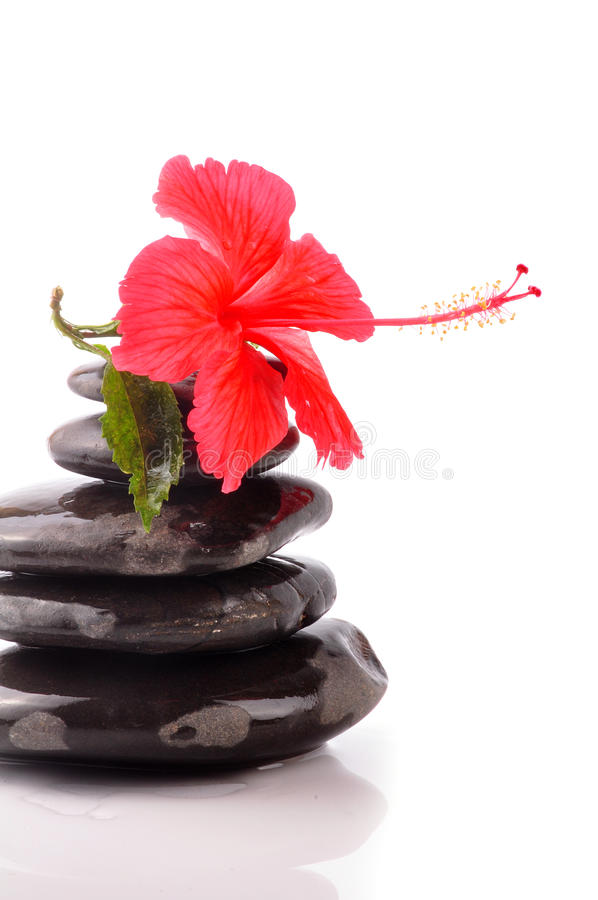Hibiscus: (102, 142, 568, 478)
